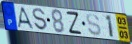1: (105, 15, 116, 40)
8: (51, 9, 66, 35)
A: (17, 6, 35, 31)
S: (85, 13, 102, 38), (32, 8, 49, 32)
Z: (65, 11, 83, 35)
